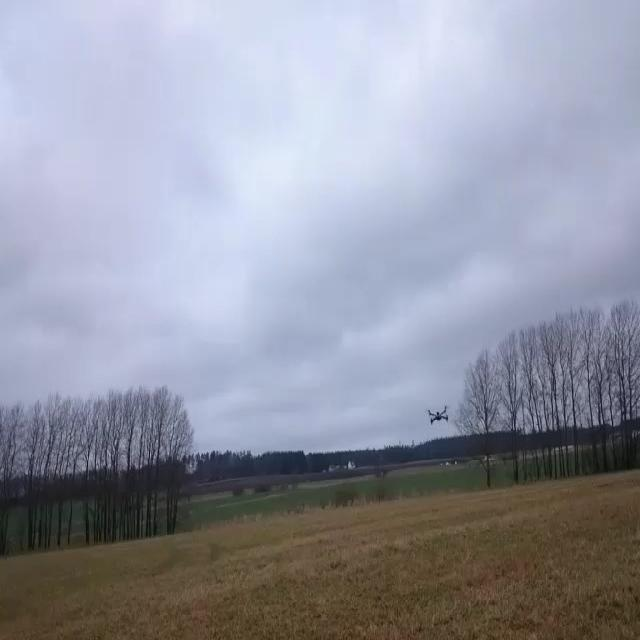drone: (427, 404, 450, 425)
